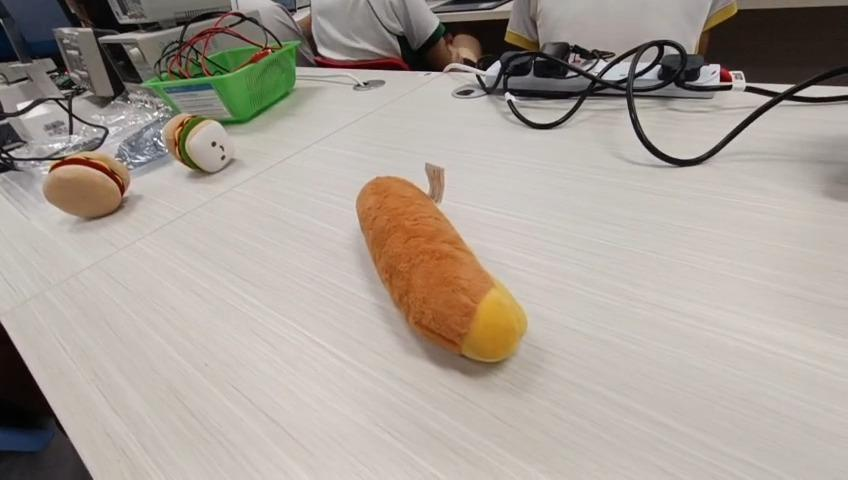hotdog: (354, 173, 528, 363)
